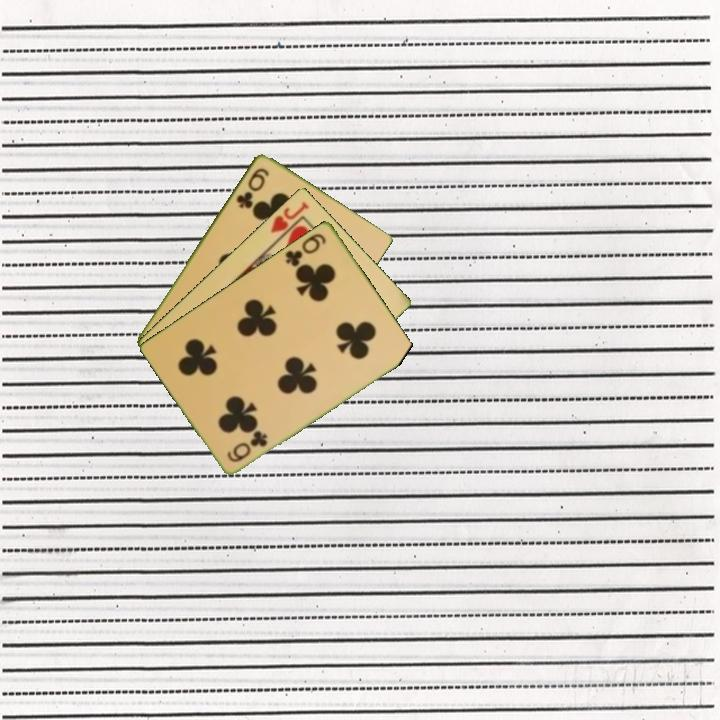6c: (281, 229, 329, 269), (232, 164, 272, 211), (223, 427, 271, 465)
Jh: (267, 197, 312, 236)
